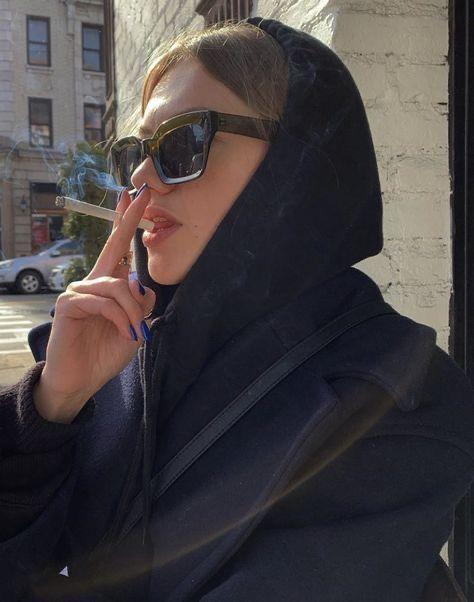cigarette: (55, 197, 157, 232)
